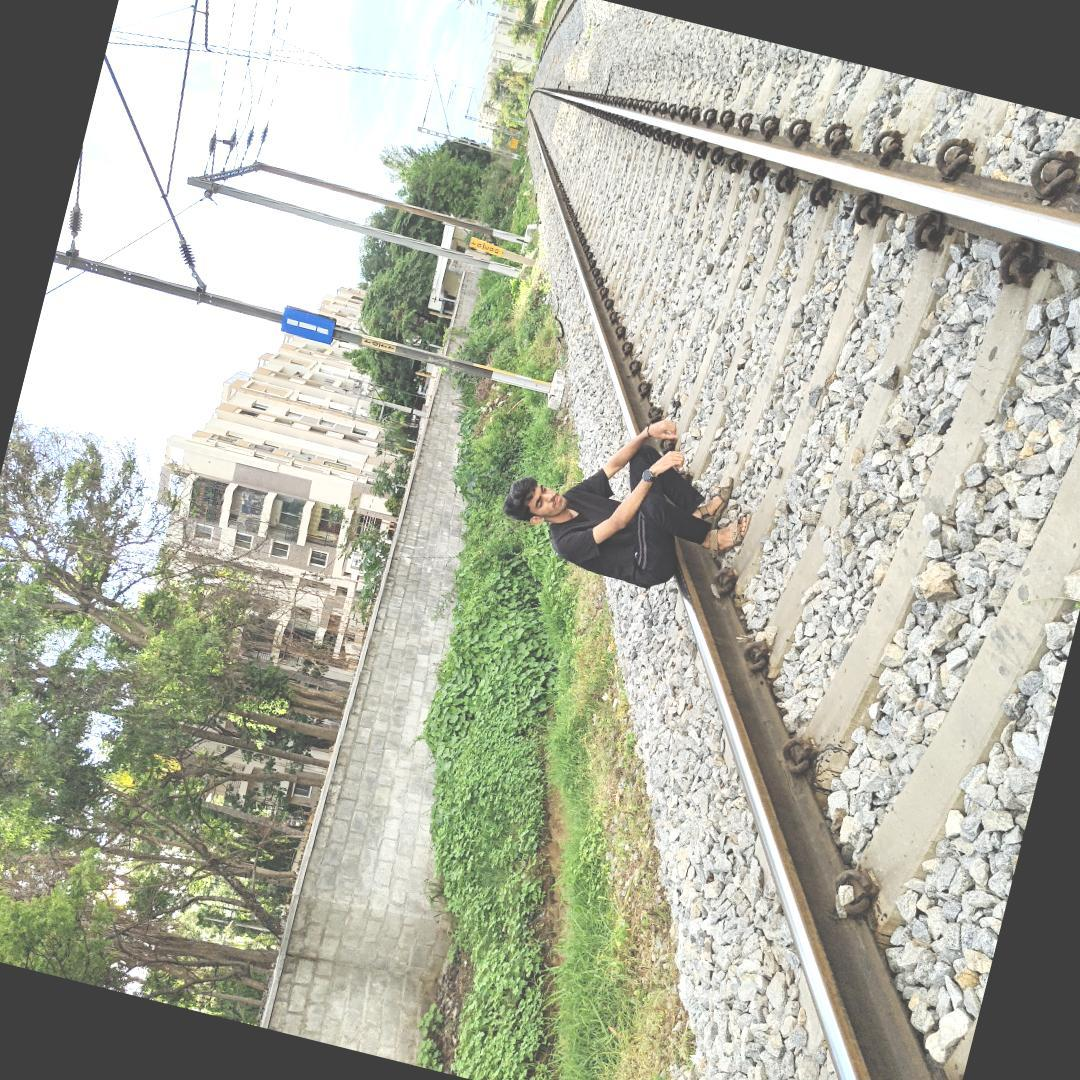sitting: (492, 385, 774, 628)
